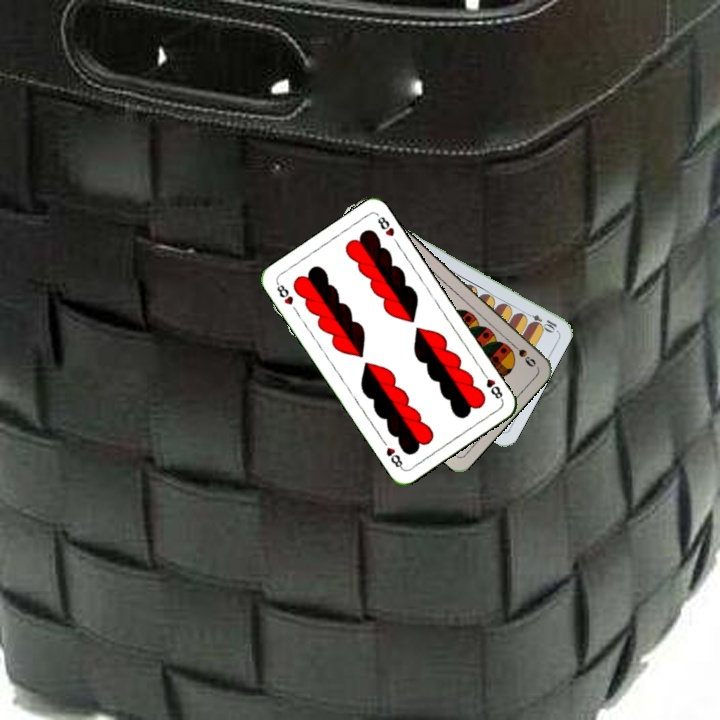E10: (520, 308, 559, 334)
H8: (478, 367, 506, 403), (272, 279, 296, 308)
S9: (506, 338, 538, 370)
